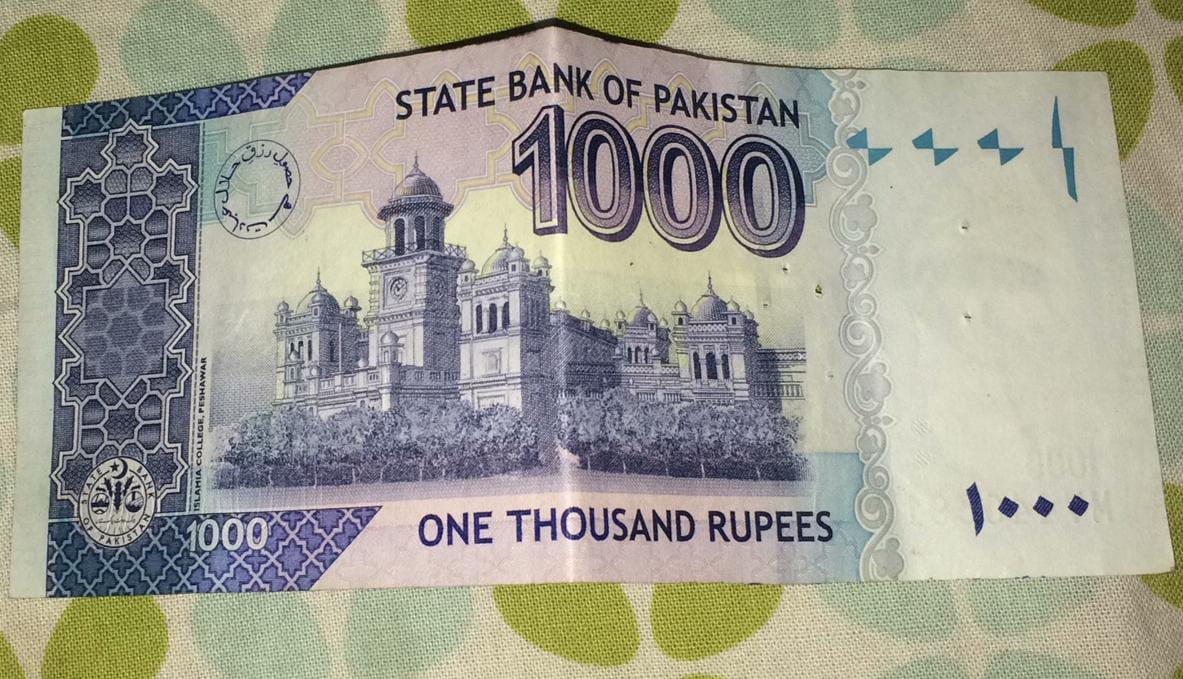1000 rupee: (12, 20, 1169, 612)
